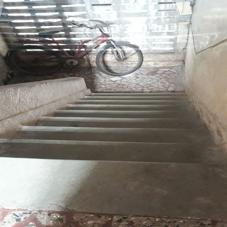Stair Down: (1, 89, 227, 173)
